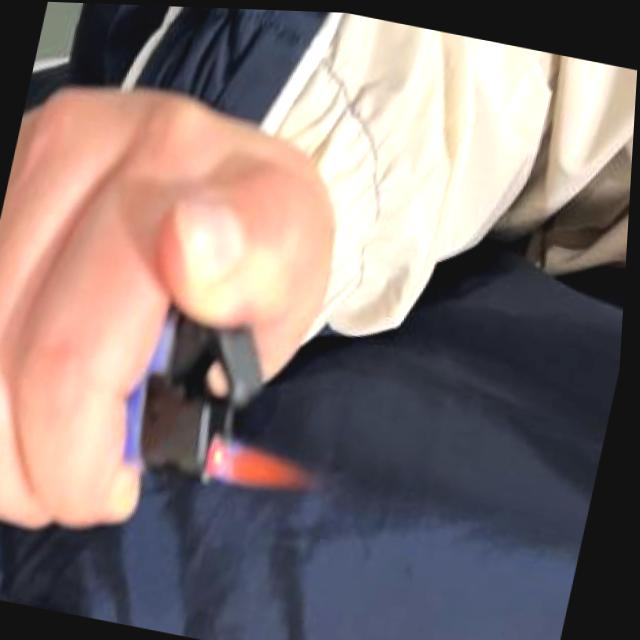fire: (204, 429, 321, 496)
